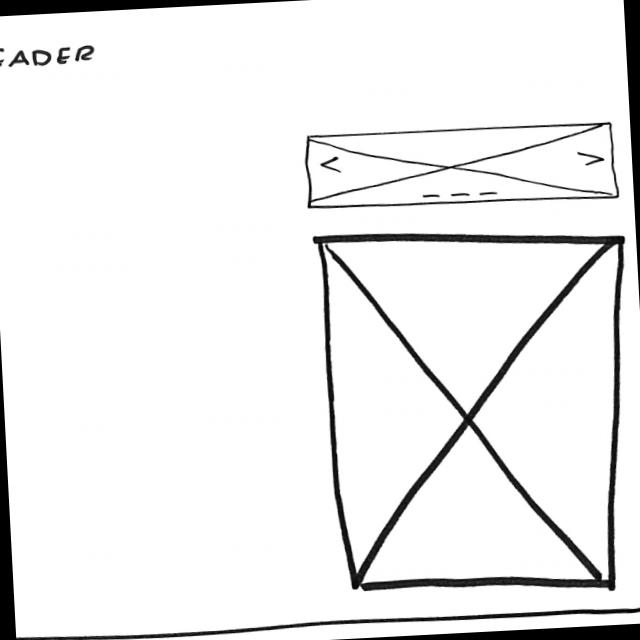container: (1, 39, 99, 72)
image: (311, 217, 640, 605), (303, 119, 624, 218)
